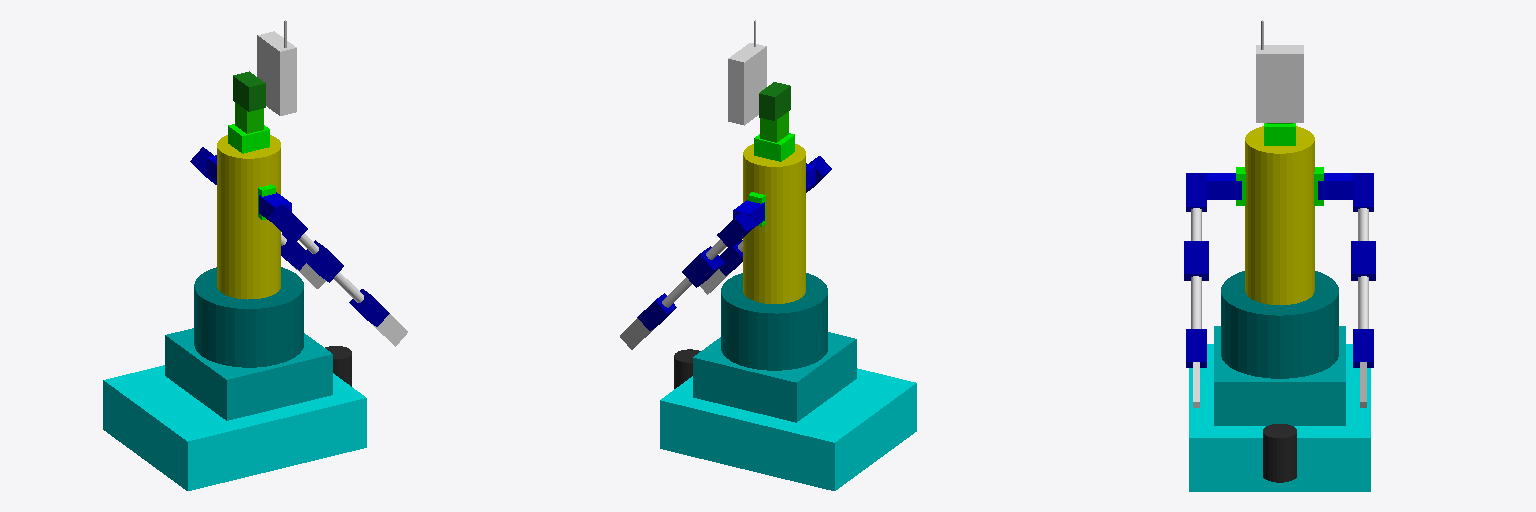
robot.urdf — pi_robot:
<robot name="pi_robot">

	<!-- * * * Link Definitions * * * -->

 	<link name="base_link">
		<visual>
		    <origin xyz="0 0 0.0425" rpy="0 0 0"/>
			<geometry>
				<box size="0.32 0.26 0.085"/>
			</geometry>
			<material name="Cyan1">
	       		<color rgba="0 0.9 0.9 1.0"/>
	     	</material>
		</visual>
	</link>

 	<link name="base_laser">
		<visual>
		    <origin xyz="0 0 0" rpy="0 0 0"/>
			<geometry>
				<cylinder radius="0.025" length="0.07"/>
			</geometry>
			<material name="Black1">
	       		<color rgba="0.2 0.2 0.2 1.0"/>
	     	</material>
		</visual>
	</link>

	<link name="cpu_link">
		<visual>
		    <origin xyz="0 0 0.035" rpy="0 0 0"/>
			<geometry>
				<box size="0.19 0.19 0.07"/>
			</geometry>
			<material name="Cyan2">
	       		<color rgba="0 0.7 0.7 1.0"/>
	     	</material>
		</visual>
	</link>

  	<link name="upper_base_link">
		<visual>
			<origin xyz="0 0 0.05" rpy="0 0 0"/>
			<geometry>
				<cylinder radius="0.085" length="0.10"/>
			</geometry>
	     	<material name="Cyan3">
				<color rgba="0 0.5 0.5 0"/>
			</material>
	   </visual>
	</link>

  	<link name="torso_link">
		<visual>
			<origin xyz="0 0 0.12" rpy="0 0 0"/>
			<geometry>
				<cylinder radius="0.05" length="0.24"/>
			</geometry>
	     	<material name="Yellow2">
				<color rgba="0.8 0.8 0 1.0"/>
			</material>
	   </visual>
	</link>

	<link name="head_pan_link">
		<visual>
			<origin xyz="0 0 0.0225" rpy="0 0 0"/>
			<geometry>
				<box size="0.05 0.045 0.045"/>
			</geometry>
	     	<material name="Green1">
				<color rgba="0 1 0 1.0"/>
			</material>
	   </visual>
	</link>

	<link name="head_tilt_link">
		<visual>
			<origin xyz="0 0 0.02" rpy="0 0 0"/>
			<geometry>
				<box size="0.03 0.038 0.04"/>
			</geometry>
	     	<material name="Green2">
				<color rgba="0.1 0.8 0 1.0"/>
			</material>
	   </visual>
	</link>

	<link name="neck_link">
		<visual>
			<origin xyz="0 0 0.021" rpy="0 0 0"/>
			<geometry>
				<box size="0.03 0.05 0.042"/>
			</geometry>
	     	<material name="Green3">
				<color rgba="0.1 0.5 0.1 1.0"/>
			</material>
	   </visual>
	</link>

	<link name="head_link">
		<visual>
			<origin xyz="0 0 0.025" rpy="0 0 0"/>
			<geometry>
				<box size="0.03 0.07 0.11"/>
			</geometry>
	     	<material name="Grey1">
				<color rgba="0.9 0.9 0.9 1.0"/>
			</material>
	   </visual>
	</link>

<!--
	<link name="eyes_link">
		<visual>
			<origin xyz="0 0 0.035" rpy="0 0 0" />
			<geometry>
				<box size="0.01 0.04 0.01" />
			</geometry>
	     	<material name="Blue2">
				<color rgba="0 0 0.7 1.0"/>
			</material>
	   </visual>
	</link>
-->

	<link name="antenna_link">
		<visual>
			<origin xyz="0 0 0.035" rpy="0 0 0"/>
			<geometry>
				<cylinder radius="0.002" length="0.05"/>
			</geometry>
	     	<material name="Grey3">
				<color rgba="0.8 0.8 0.8 1.0"/>
			</material>
	   </visual>
	</link>

	<link name="left_shoulder_link">
		<visual>
			<origin xyz="0 0 0" rpy="0 0 0"/>
			<geometry>
				<box size="0.025 0.015 0.05"/>
			</geometry>
	     	<material name="Green1">
				<color rgba="0 1 0 1.0"/>
			</material>
	   </visual>
	</link>

	<link name="right_shoulder_link">
		<visual>
			<origin xyz="0 0 0" rpy="0 0 0"/>
			<geometry>
				<box size="0.025 0.015 0.05"/>
			</geometry>
	     	<material name="Green1">
				<color rgba="0 1 0 1.0"/>
			</material>
	   </visual>
	</link>

	<link name="left_shoulder_forward_link">
		<visual>
			<origin xyz="0 0 0" rpy="0 0 0"/>
			<geometry>
				<box size="0.03 0.05 0.03"/>
			</geometry>
	     	<material name="Blue1">
				<color rgba="0 0 0.9 1.0"/>
			</material>
	   </visual>
	</link>

	<link name="right_shoulder_forward_link">
		<visual>
			<origin xyz="0 0 0" rpy="0 0 0"/>
			<geometry>
				<box size="0.03 0.05 0.03"/>
			</geometry>
	     	<material name="Blue1">
				<color rgba="0 0 0.9 1.0"/>
			</material>
	   </visual>
	</link>

	<link name="left_shoulder_up_link">
		<visual>
			<origin xyz="0 0 0" rpy="1.57 0 0"/>
			<geometry>
				<box size="0.03 0.05 0.03"/>
			</geometry>
	     	<material name="Blue2">
				<color rgba="0 0 0.7 1.0"/>
			</material>
	   </visual>
	</link>

	<link name="right_shoulder_up_link">
		<visual>
			<origin xyz="0 0 0" rpy="1.57 0 0"/>
			<geometry>
				<box size="0.03 0.05 0.03"/>
			</geometry>
	     	<material name="Blue2">
				<color rgba="0 0 0.7 1.0"/>
			</material>
	   </visual>
	</link>

	<link name="left_upper_arm_link">
		<visual>
			<origin xyz="0 0 0" rpy="0 0 0"/>
			<geometry>
				<cylinder radius="0.0075" length="0.05"/>
			</geometry>
	     	<material name="Grey1">
				<color rgba="0.9 0.9 0.9 1.0"/>
			</material>
	   </visual>
	</link>

	<link name="right_upper_arm_link">
		<visual>
			<origin xyz="0 0 0" rpy="0 0 0"/>
			<geometry>
				<cylinder radius="0.0075" length="0.05"/>
			</geometry>
	     	<material name="Grey1">
				<color rgba="0.9 0.9 0.9 1.0"/>
			</material>
	   </visual>
	</link>

	<link name="left_elbow_link">
		<visual>
			<origin xyz="0 0 0" rpy="0 0 1.57"/>
			<geometry>
				<box size="0.035 0.035 0.05"/>
			</geometry>
	     	<material name="Blue2">
				<color rgba="0 0 0.7 1.0"/>
			</material>
	   </visual>
	</link>

	<link name="right_elbow_link">
		<visual>
			<origin xyz="0 0 0" rpy="0 0 1.57"/>
			<geometry>
				<box size="0.035 0.035 0.05"/>
			</geometry>
	     	<material name="Blue2">
				<color rgba="0 0 0.7 1.0"/>
			</material>
	   </visual>
	</link>

	<link name="left_lower_arm_link">
		<visual>
			<origin xyz="0 0 0" rpy="0 0 0"/>
			<geometry>
				<cylinder radius="0.0075" length="0.11"/>
			</geometry>
	     	<material name="Grey1">
				<color rgba="0.9 0.9 0.9 1.0"/>
			</material>
	   </visual>
	</link>

	<link name="right_lower_arm_link">
		<visual>
			<origin xyz="0 0 0" rpy="0 0 0"/>
			<geometry>
				<cylinder radius="0.0075" length="0.11"/>
			</geometry>
	     	<material name="Grey1">
				<color rgba="0.9 0.9 0.9 1.0"/>
			</material>
	   </visual>
	</link>

	<link name="left_wrist_link">
		<visual>
			<origin xyz="0 0 0" rpy="1.57 0 0"/>
			<geometry>
				<box size="0.03 0.05 0.03"/>
			</geometry>
	     	<material name="Blue2">
				<color rgba="0 0 0.7 1.0"/>
			</material>
	   </visual>
	</link>

	<link name="right_wrist_link">
		<visual>
			<origin xyz="0 0 0" rpy="1.57 0 0"/>
			<geometry>
				<box size="0.03 0.05 0.03"/>
			</geometry>
	     	<material name="Blue2">
				<color rgba="0 0 0.7 1.0"/>
			</material>
	   </visual>
	</link>

	<link name="left_hand_link">
		<visual>
			<origin xyz="0 0 0" rpy="0 0 0"/>
			<geometry>
				<box size="0.03 0.01 0.06"/>
			</geometry>
	     	<material name="Grey1">
				<color rgba="0.7 0.7 0.7 1.0"/>
			</material>
	   </visual>
	</link>

	<link name="right_hand_link">
		<visual>
			<origin xyz="0 0 0" rpy="0 0 0"/>
			<geometry>
				<box size="0.03 0.01 0.06"/>
			</geometry>
	     	<material name="Grey1">
				<color rgba="0.9 0.9 0.9 1.0"/>
			</material>
	   </visual>
	</link>

	<!-- * * * Joint Definitions * * * -->

	<joint name="cpu_joint" type="fixed">
    	<parent link="base_link"/>
    	<child link="cpu_link"/>
    	<origin xyz="0.025 0 0.085" rpy="0 0 0"/>
	</joint>

	<joint name="base_laser_joint" type="fixed">
    	<parent link="base_link"/>
    	<child link="base_laser"/>
    	<origin xyz="0.18 0 0.07" rpy="0 0 0"/>
	</joint>

	<joint name="upper_base_joint" type="fixed">
    	<parent link="cpu_link"/>
    	<child link="upper_base_link"/>
    	<origin xyz="0 0 0.07" rpy="0 0 0"/>
	</joint>

	<joint name="torso_joint" type="revolute">
    	<parent link="upper_base_link"/>
    	<child link="torso_link"/>
    	<origin xyz="0 0 0.10" rpy="0 0 0"/>
    	<axis xyz="0 0 1"/>
    	<limit lower="-3.1416" upper="3.1416" effort="10" velocity="3"/>
  	</joint>

	<joint name="head_pan_servo" type="fixed">
    	<parent link="torso_link"/>
    	<child link="head_pan_link"/>
    	<origin xyz="0 0 0.225" rpy="0 0 0"/>
	</joint>

	<joint name="head_pan_joint" type="revolute">
    	<parent link="head_pan_link"/>
    	<child link="head_tilt_link"/>
    	<origin xyz="0 0 0.045" rpy="0 0 0"/>
    	<axis xyz="0 0 1"/>
    	<limit lower="-3.1416" upper="3.1416" effort="10" velocity="3"/>
  	</joint>

 	<joint name="head_tilt_joint" type="revolute">
    	<parent link="head_tilt_link"/>
    	<child link="neck_link"/>
    	<origin xyz="0 0 0.04" rpy="0 0 0"/>
    	<axis xyz="0 1 0"/>
    	<limit lower="-1.57" upper="1.57" effort="10" velocity="3"/>
  	</joint>

 	<joint name="neck_joint" type="fixed">
    	<parent link="neck_link"/>
    	<child link="head_link"/>
    	<origin xyz="0.05 0 0.015" rpy="0 0 0"/>
	</joint>
<!--
	<joint name="eyes_joint" type="fixed">
    	<parent link="head_link" />
    	<child link="eyes_link" />
    	<origin xyz="0.02 0 0.03" rpy="0 0 0" />
	</joint>
-->

	<joint name="antenna_joint" type="fixed">
    	<parent link="head_link"/>
    	<child link="antenna_link"/>
    	<origin xyz="0.0 -0.025 0.065" rpy="0 0 0"/>
	</joint>

 	<joint name="left_shoulder_joint" type="fixed">
    	<parent link="torso_link"/>
    	<child link="left_shoulder_link"/>
    	<origin xyz="0 0.055 0.165" rpy="0 0 0"/>
	</joint>

 	<joint name="right_shoulder_joint" type="fixed">
    	<parent link="torso_link"/>
    	<child link="right_shoulder_link"/>
    	<origin xyz="0 -0.055 0.165" rpy="0 0 0"/>
	</joint>

 	<joint name="left_shoulder_forward_joint" type="revolute">
    	<parent link="left_shoulder_link"/>
    	<child link="left_shoulder_forward_link"/>
    	<origin xyz="0 0.025 0" rpy="0 0 0"/>
       	<limit lower="-1.57" upper="1.57" effort="10" velocity="3"/>
        <axis xyz="0 0 1"/>
	</joint>

 	<joint name="right_shoulder_forward_joint" type="revolute">
    	<parent link="right_shoulder_link"/>
    	<child link="right_shoulder_forward_link"/>
    	<origin xyz="0 -0.025 0" rpy="0 0 0"/>
       	<limit lower="-1.57" upper="1.57" effort="10" velocity="3"/>
        <axis xyz="0 0 1"/>
	</joint>

 	<joint name="left_shoulder_up_joint" type="revolute">
    	<parent link="left_shoulder_forward_link"/>
    	<child link="left_shoulder_up_link"/>
    	<origin xyz="0 0.04 -0.01" rpy="0 -0.707 0"/>
       	<limit lower="-1.57" upper="1.57" effort="10" velocity="3"/>
        <axis xyz="0 1 0"/>
	</joint>

 	<joint name="right_shoulder_up_joint" type="revolute">
    	<parent link="right_shoulder_forward_link"/>
    	<child link="right_shoulder_up_link"/>
    	<origin xyz="0 -0.04 -0.01" rpy="0 -0.707 0"/>
       	<limit lower="-1.57" upper="1.57" effort="10" velocity="3"/>
        <axis xyz="0 1 0"/>
	</joint>

 	<joint name="left_upper_arm_joint" type="fixed">
    	<parent link="left_shoulder_up_link"/>
    	<child link="left_upper_arm_link"/>
    	<origin xyz="0 0 -0.05" rpy="0 0 0"/>
	</joint>

 	<joint name="right_upper_arm_joint" type="fixed">
    	<parent link="right_shoulder_up_link"/>
    	<child link="right_upper_arm_link"/>
    	<origin xyz="0 0 -0.05" rpy="0 0 0"/>
	</joint>

 	<joint name="left_elbow_joint" type="revolute">
    	<parent link="left_upper_arm_link"/>
    	<child link="left_elbow_link"/>
    	<origin xyz="-0.005 0 -0.05" rpy="0 0 0"/>
       	<limit lower="-3.146" upper="3.146" effort="10" velocity="3"/>
        <axis xyz="0 0 1"/>
	</joint>

 	<joint name="right_elbow_joint" type="revolute">
    	<parent link="right_upper_arm_link"/>
    	<child link="right_elbow_link"/>
    	<origin xyz="-0.005 0 -0.05" rpy="0 0 0"/>
       	<limit lower="-3.146" upper="3.146" effort="10" velocity="3"/>
        <axis xyz="0 0 1"/>
	</joint>

 	<joint name="left_lower_arm_joint" type="fixed">
    	<parent link="left_elbow_link"/>
    	<child link="left_lower_arm_link"/>
    	<origin xyz="0 0 -0.08" rpy="0 0 0"/>
	</joint>

 	<joint name="right_lower_arm_joint" type="fixed">
    	<parent link="right_elbow_link"/>
    	<child link="right_lower_arm_link"/>
    	<origin xyz="0 0 -0.08" rpy="0 0 0"/>
	</joint>

 	<joint name="left_wrist_joint" type="revolute">
    	<parent link="left_lower_arm_link"/>
    	<child link="left_wrist_link"/>
    	<origin xyz="0 0 -0.05" rpy="0 0 0"/>
       	<limit lower="-1.57" upper="1.57" effort="10" velocity="3"/>
        <axis xyz="1 0 0"/>
	</joint>

 	<joint name="right_wrist_joint" type="revolute">
    	<parent link="right_lower_arm_link"/>
    	<child link="right_wrist_link"/>
    	<origin xyz="0 0 -0.05" rpy="0 0 0"/>
       	<limit lower="-1.57" upper="1.57" effort="10" velocity="3"/>
        <axis xyz="1 0 0"/>
	</joint>

 	<joint name="left_hand_joint" type="fixed">
    	<parent link="left_wrist_link"/>
    	<child link="left_hand_link"/>
    	<origin xyz="0 0 -0.055" rpy="0 0 0"/>
	</joint>

 	<joint name="right_hand_joint" type="fixed">
    	<parent link="right_wrist_link"/>
    	<child link="right_hand_link"/>
    	<origin xyz="0 0 -0.055" rpy="0 0 0"/>
	</joint>

</robot>

--- What the picture shows (computed from the rendered views, not written in the file) ---
The picture shows the robot from 3 angles, left to right: view 1: azimuth 30°, elevation 25°; view 2: azimuth 150°, elevation 25°; view 3: azimuth 270°, elevation 25°; orthographic projection.
Robot: pi_robot — 26 links, 25 joints (11 revolute, 14 fixed); root link base_link; default pose: every joint at zero.
Visible links, largest first — view 1: base_link, torso_link, cpu_link, upper_base_link, head_link, neck_link, head_pan_link, right_elbow_link, right_shoulder_up_link, right_wrist_link, base_laser, head_tilt_link (+1 smaller); view 2: base_link, torso_link, cpu_link, upper_base_link, head_link, neck_link, head_pan_link, left_elbow_link, left_shoulder_up_link, left_wrist_link, base_laser, head_tilt_link; view 3: base_link, torso_link, upper_base_link, cpu_link, head_link, base_laser, left_elbow_link, right_elbow_link, left_shoulder_forward_link, right_shoulder_forward_link, left_shoulder_up_link, right_shoulder_up_link (+5 smaller).
Link boxes in pixels (left/top/right/bottom): base_link: left=103, top=365, right=366, bottom=490; torso_link: left=217, top=135, right=280, bottom=299; cpu_link: left=165, top=328, right=332, bottom=420; upper_base_link: left=194, top=267, right=303, bottom=367; head_link: left=257, top=31, right=296, bottom=115; neck_link: left=233, top=71, right=265, bottom=111; head_pan_link: left=228, top=124, right=269, bottom=153; right_elbow_link: left=300, top=240, right=343, bottom=282; right_shoulder_up_link: left=268, top=204, right=307, bottom=242; right_wrist_link: left=349, top=289, right=389, bottom=326; base_laser: left=325, top=346, right=351, bottom=386; head_tilt_link: left=235, top=102, right=263, bottom=133; base_link: left=660, top=368, right=916, bottom=490; torso_link: left=743, top=144, right=805, bottom=303; cpu_link: left=693, top=332, right=856, bottom=422; upper_base_link: left=721, top=273, right=827, bottom=370; head_link: left=728, top=43, right=766, bottom=125; neck_link: left=759, top=82, right=790, bottom=120; head_pan_link: left=754, top=133, right=794, bottom=161; left_elbow_link: left=682, top=246, right=724, bottom=287; left_shoulder_up_link: left=717, top=211, right=755, bottom=248; left_wrist_link: left=637, top=293, right=676, bottom=330; base_laser: left=674, top=349, right=700, bottom=388; head_tilt_link: left=760, top=111, right=788, bottom=142; base_link: left=1189, top=344, right=1370, bottom=491; torso_link: left=1245, top=126, right=1314, bottom=304; upper_base_link: left=1221, top=271, right=1338, bottom=378; cpu_link: left=1214, top=326, right=1345, bottom=425; head_link: left=1256, top=45, right=1303, bottom=122; base_laser: left=1263, top=424, right=1296, bottom=482; left_elbow_link: left=1351, top=241, right=1375, bottom=280; right_elbow_link: left=1184, top=241, right=1208, bottom=280; left_shoulder_forward_link: left=1318, top=173, right=1352, bottom=199; right_shoulder_forward_link: left=1207, top=173, right=1241, bottom=199; left_shoulder_up_link: left=1353, top=173, right=1373, bottom=211; right_shoulder_up_link: left=1186, top=173, right=1206, bottom=211.
Size in the robot's own frame: 0.3972 by 0.275 by 0.705 metres.
Geometry: primitives only (box / cylinder / sphere), no mesh files.